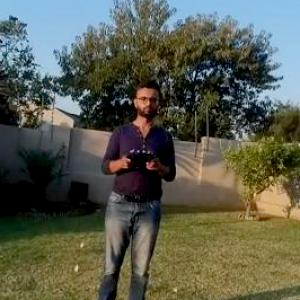follow: (90, 64, 178, 299)
